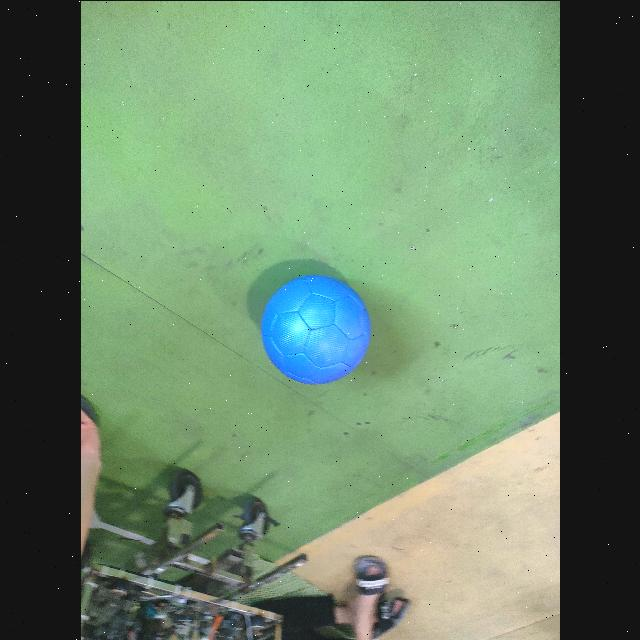B: (259, 271, 371, 384)
